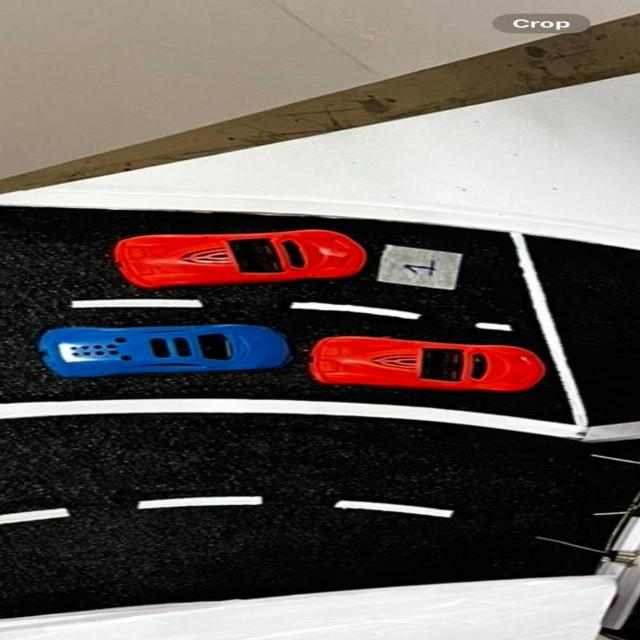car: (41, 317, 300, 383), (111, 222, 367, 288), (314, 328, 550, 398)
